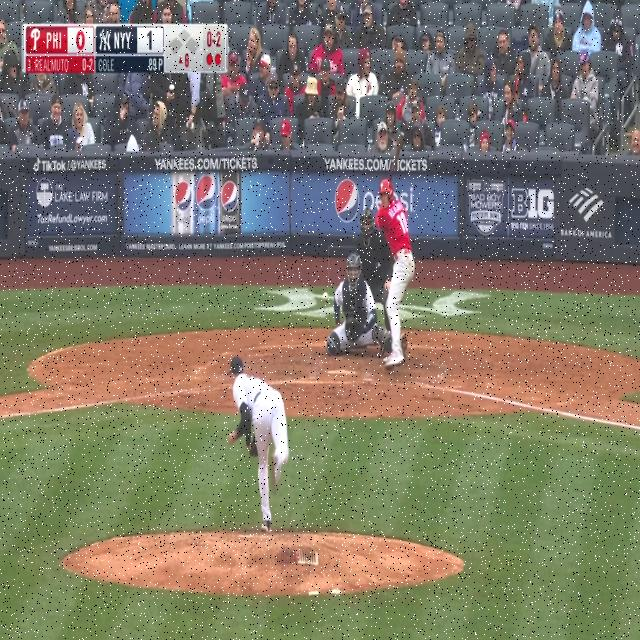baseball: (322, 292, 328, 302)
